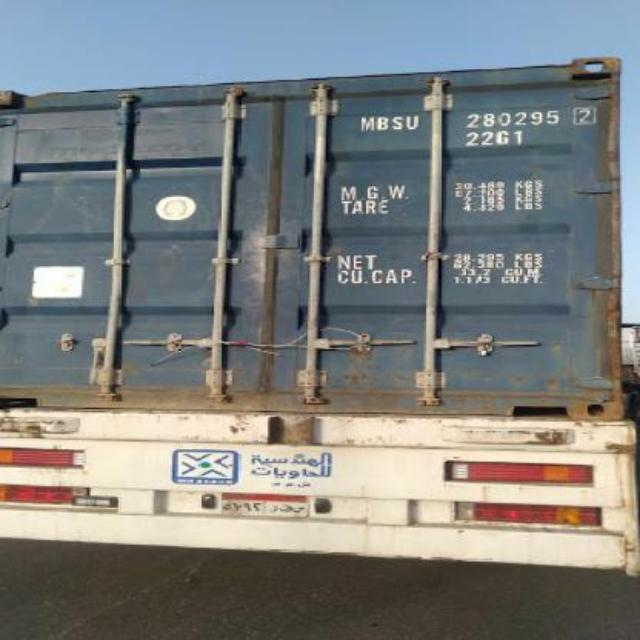0: (494, 109, 514, 127)
2: (574, 107, 594, 125), (510, 108, 528, 126), (464, 111, 480, 131)
5: (540, 110, 560, 126)
8: (481, 111, 494, 127)
9: (526, 108, 544, 128)
B: (376, 114, 388, 136)
M: (356, 115, 376, 133)
S: (388, 115, 404, 135)
U: (406, 111, 418, 132)
